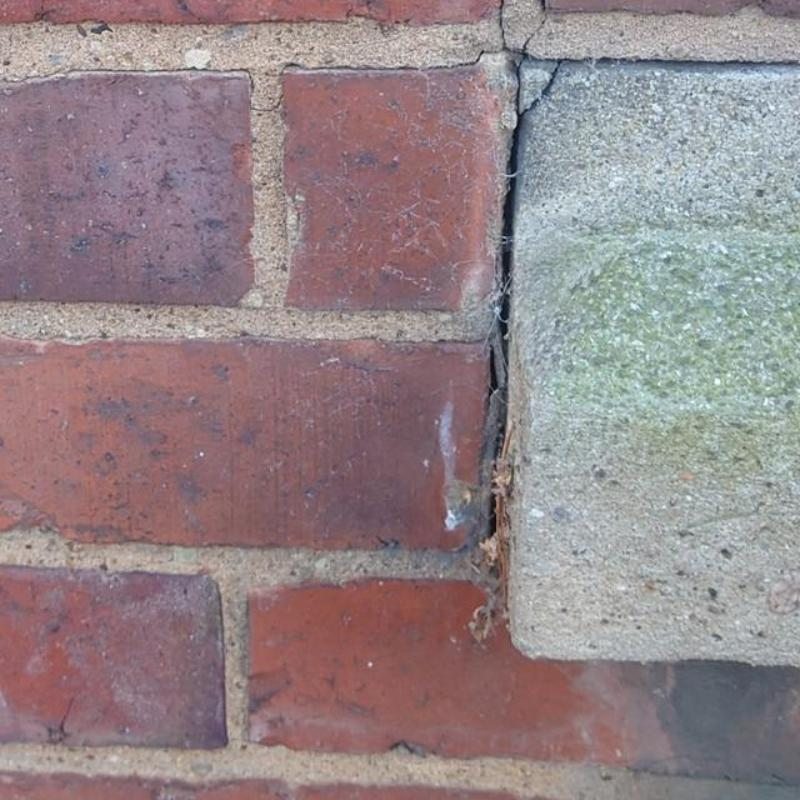crack: (482, 51, 565, 541), (0, 49, 504, 112), (499, 0, 548, 54), (565, 57, 799, 66), (55, 696, 75, 744), (532, 57, 556, 61)
